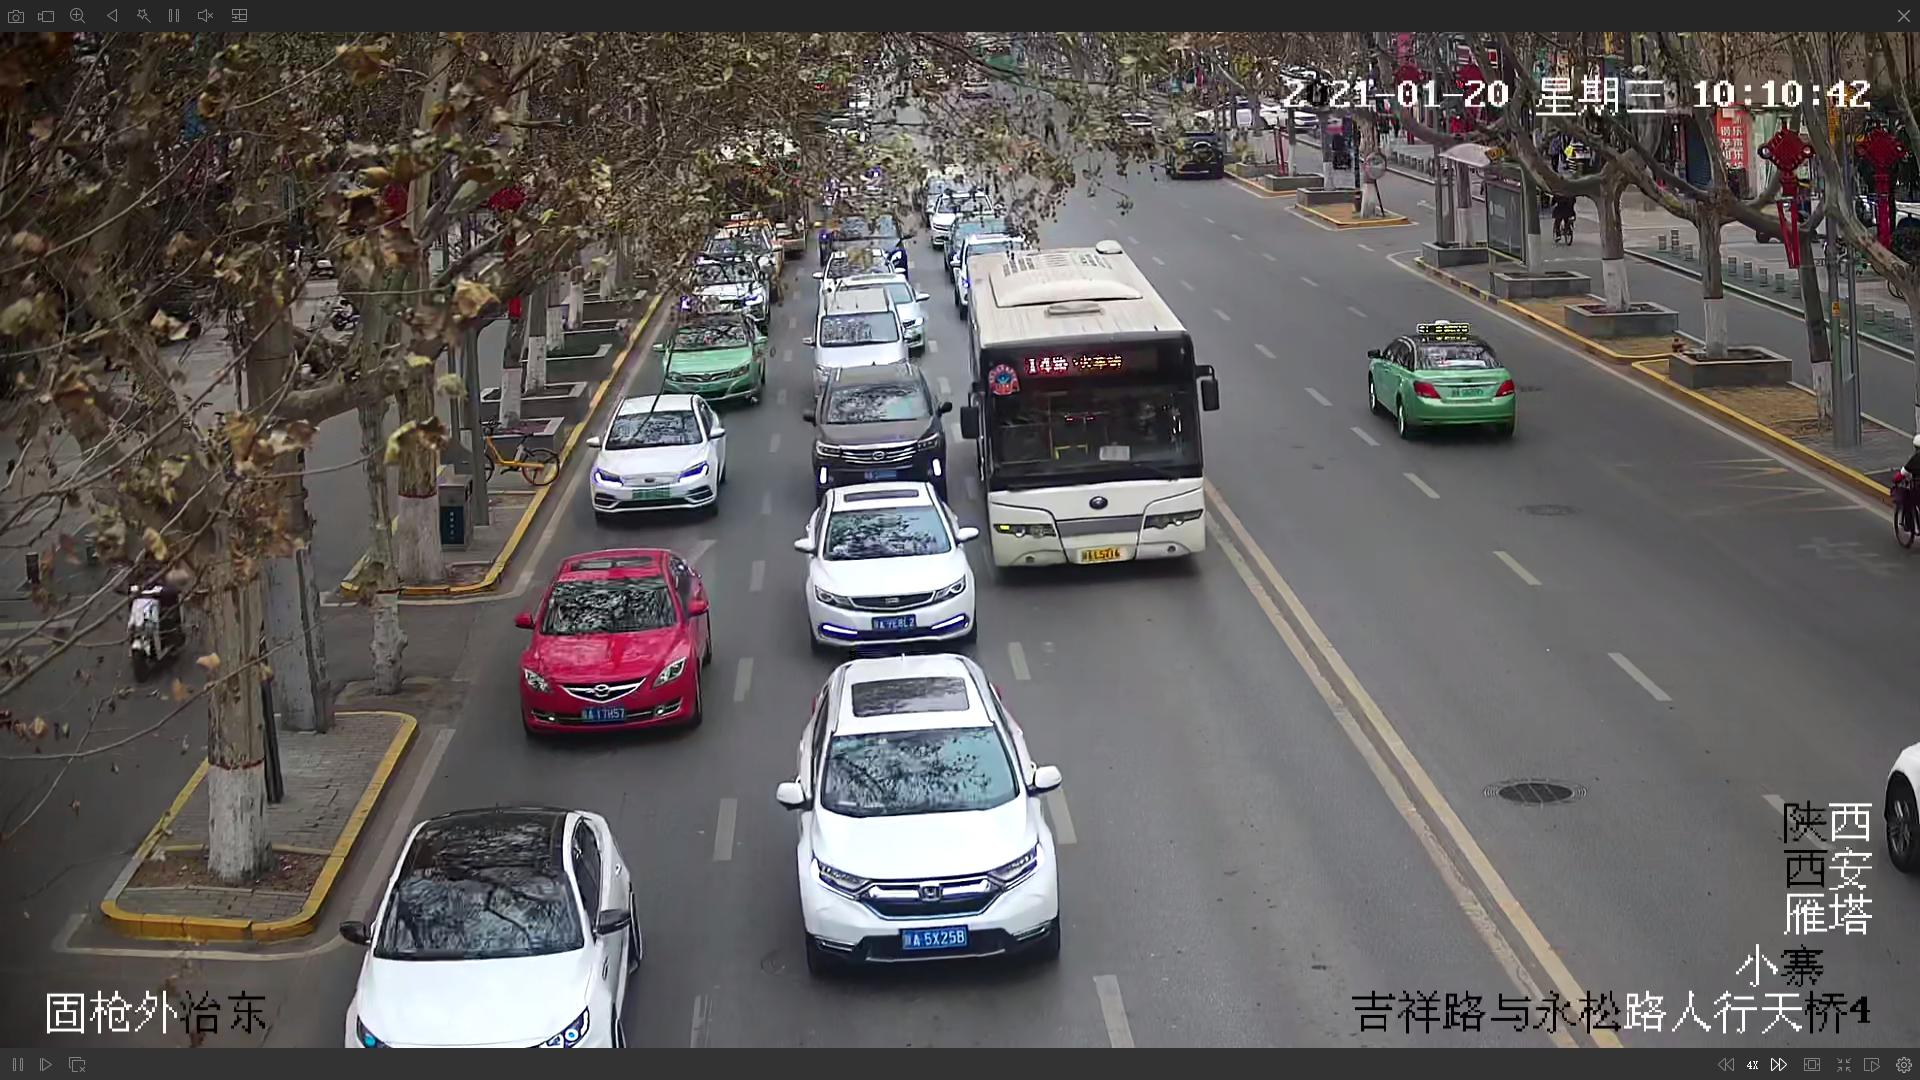red: (520, 555, 709, 742)
white: (774, 654, 1064, 975), (969, 251, 1208, 562), (345, 808, 632, 1046), (800, 481, 982, 647)
